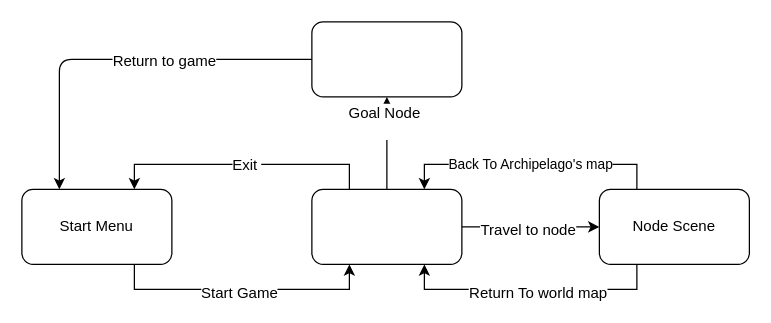
The diagram is 771 pixels wide and 323 high, and some of its shapes have lost their labels. Each missing label, with the box of its shape:
Score Scene: (311, 21, 462, 97)
World Scene: (311, 188, 462, 264)
